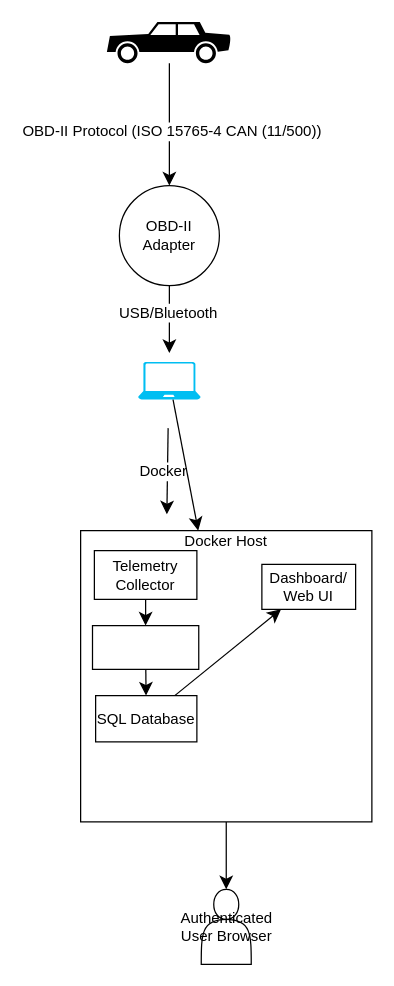
This 394x986 diagram has some shape labels left out. Here are the shapes that lost their labels. From the top down, the centre of each, then its label:
At [168,41]: "Vehicle ECU".
At [169,380]: "Raspberry Pi 4 Ubuntu Server".
At [145,646]: "Processing Service".
